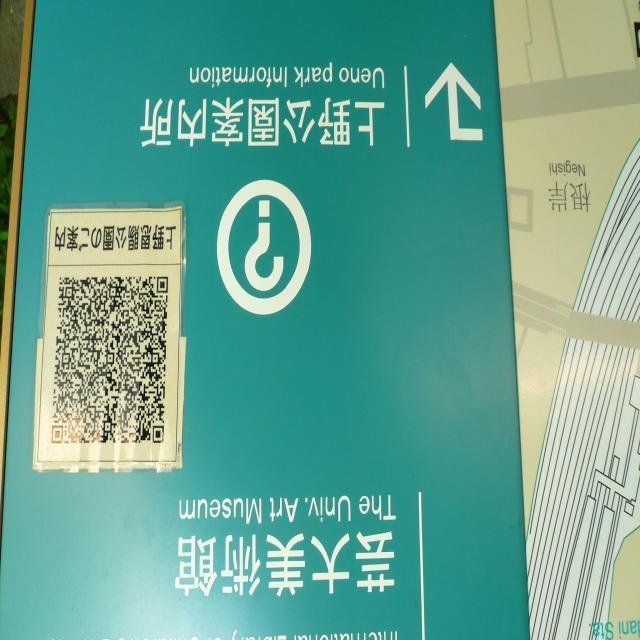qr-code: (52, 276, 168, 443)
